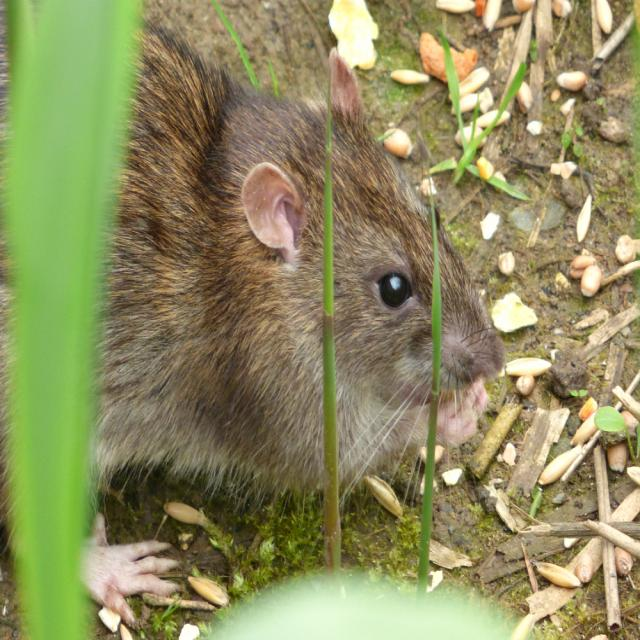rat: (127, 45, 507, 463)
